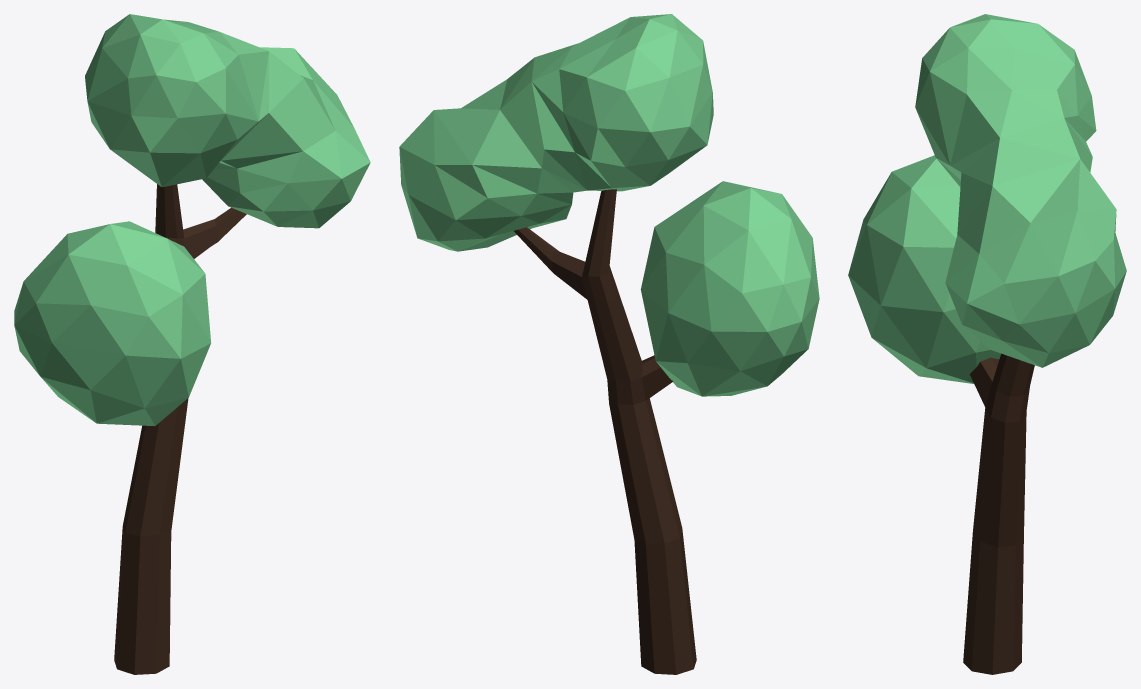
Rendered from SM_tree1.fbx.
The picture shows the model from 3 angles, left to right: view 1: azimuth 30°, elevation 25°; view 2: azimuth 150°, elevation 25°; view 3: azimuth 270°, elevation 25°; orthographic projection. The views are drawn at different scales.
Visible parts, largest first — view 1: SM_tree1; view 2: SM_tree1; view 3: SM_tree1.
Boxes of the visible parts, <box> form: SM_tree1: <box>14,14,370,674</box>; SM_tree1: <box>399,14,819,674</box>; SM_tree1: <box>848,14,1126,674</box>.
Size of the model in its own units: 304 by 516 by 199.
Materials: 1 (1 with a texture image).
